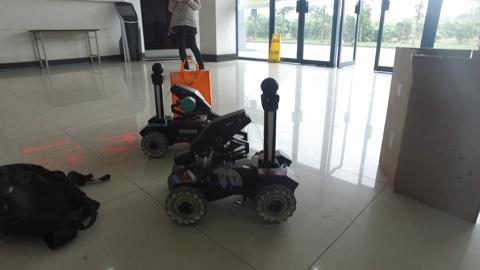chariot: (169, 76, 304, 224), (141, 62, 209, 158)
